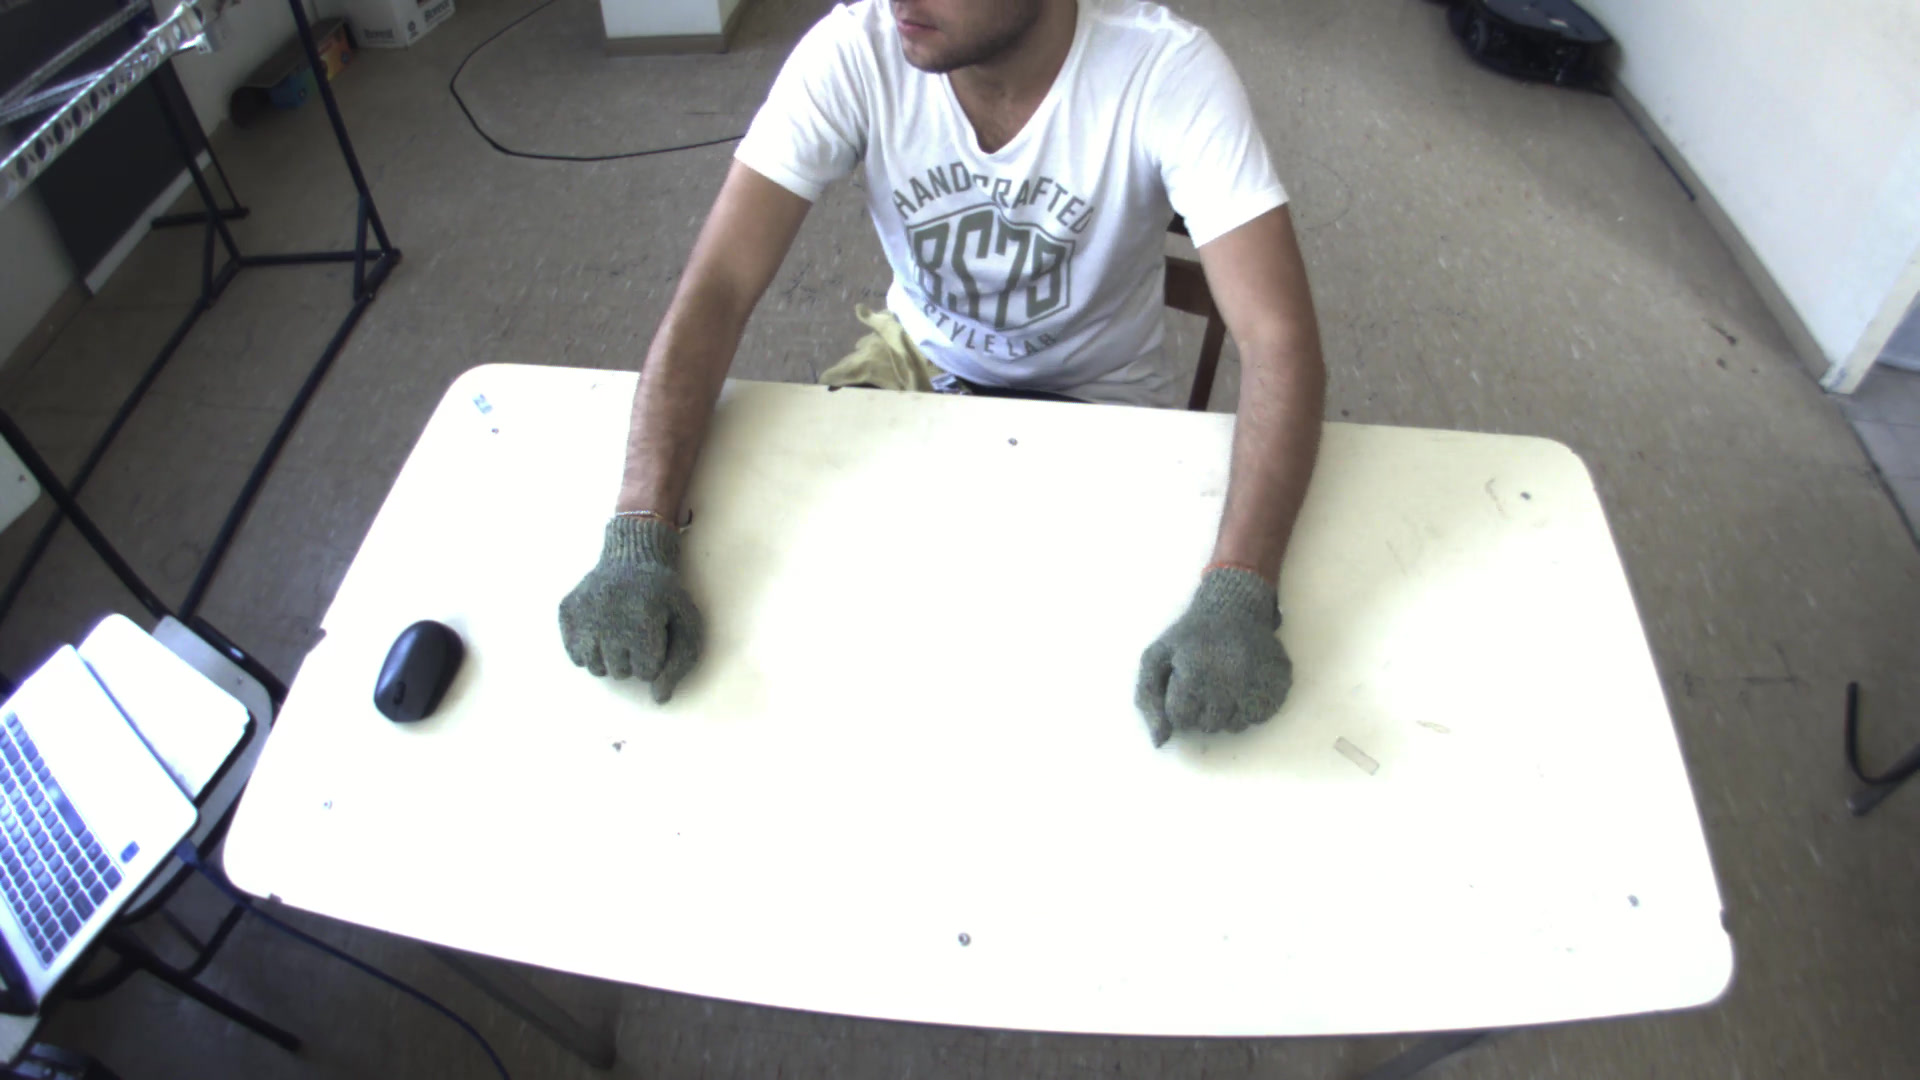hand: (1126, 562, 1305, 742), (545, 502, 709, 698)
